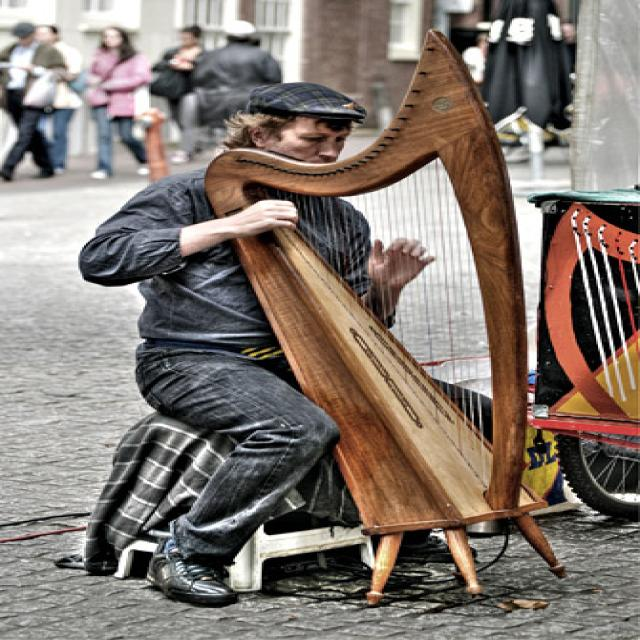harp: (198, 26, 576, 608)
